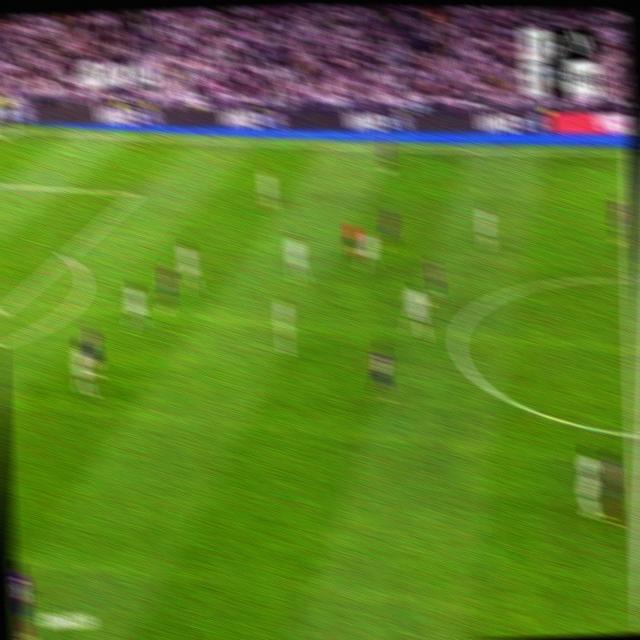bigarea_top_inner: (128, 184, 142, 203)
corner: (6, 123, 20, 135)
halfcircle_bottom: (624, 415, 640, 451)
halfcircle_top: (621, 265, 639, 293)
midline_top_intersection: (622, 146, 634, 162)
top_arc_area_intersection: (58, 245, 72, 265)
